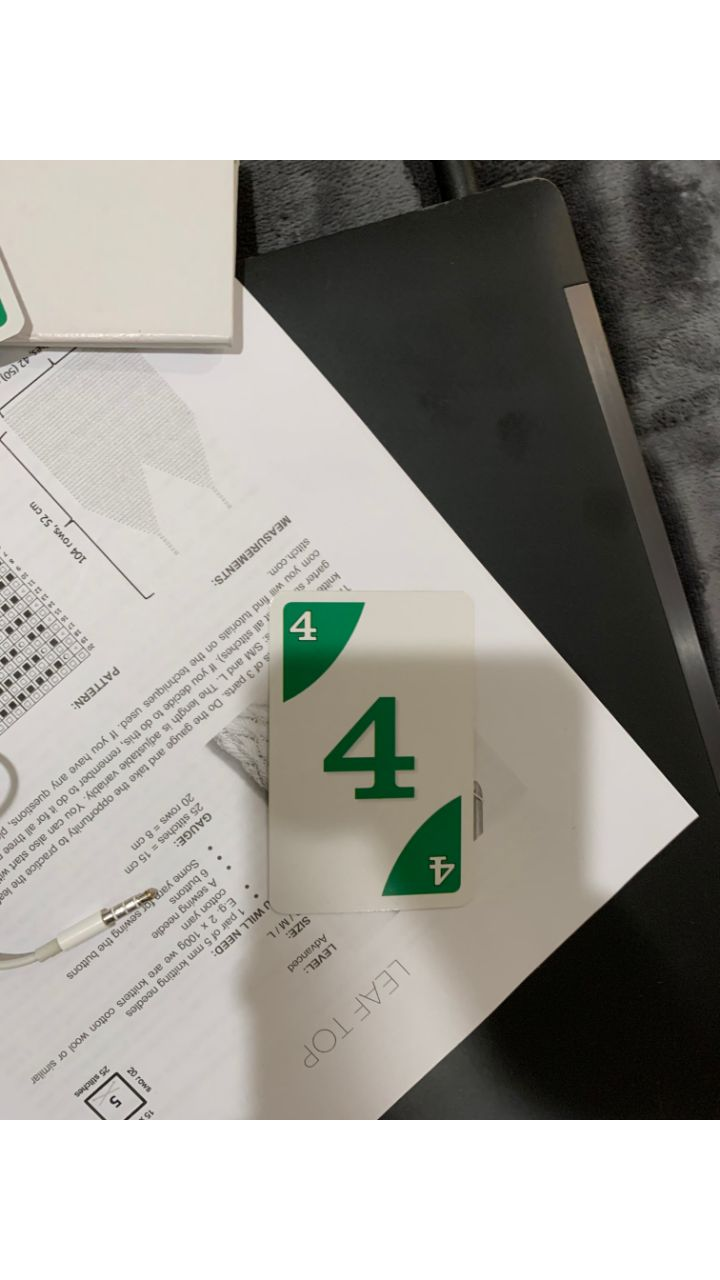four: (254, 583, 491, 916)
